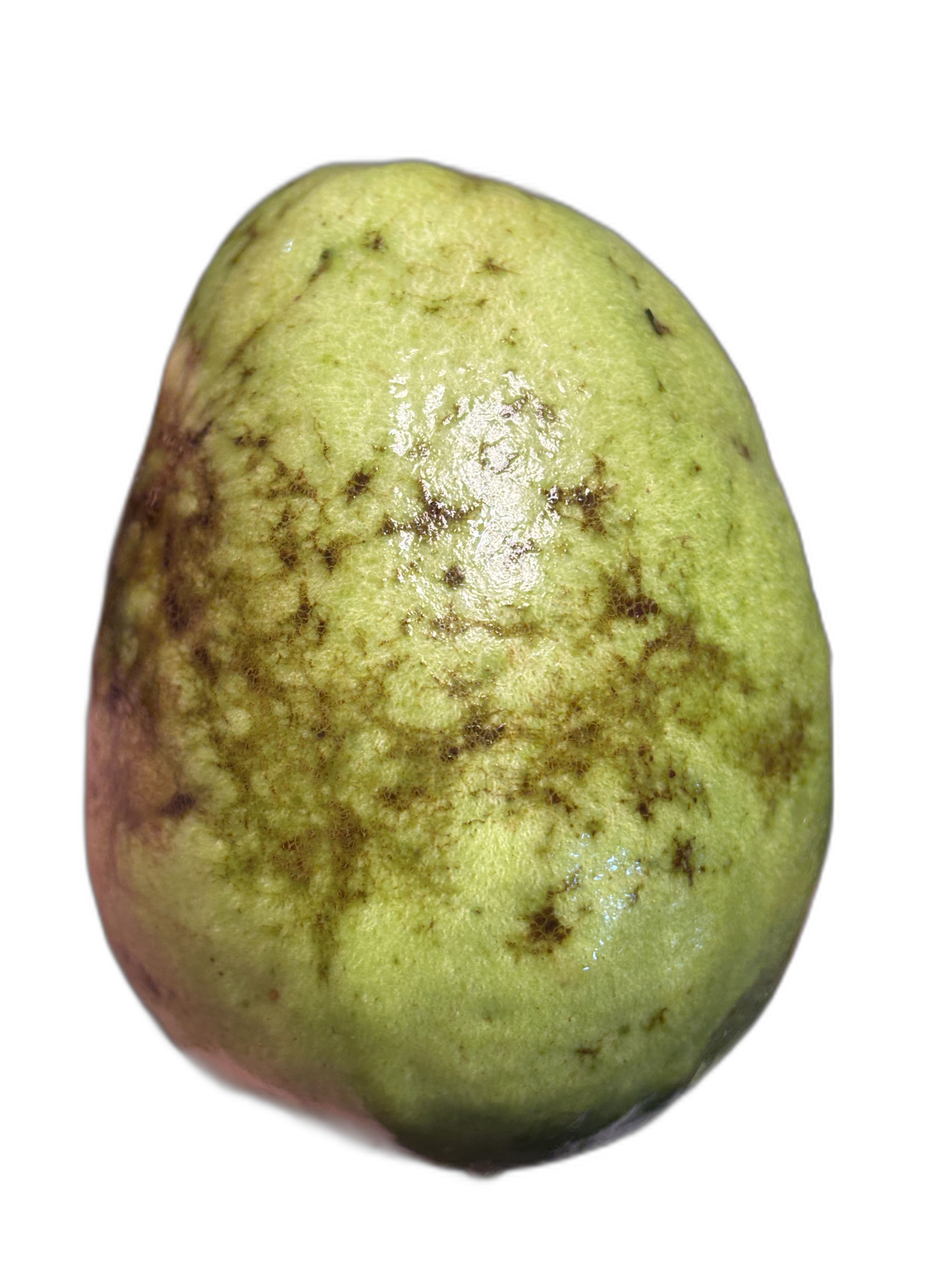guava: (190, 149, 816, 991)
